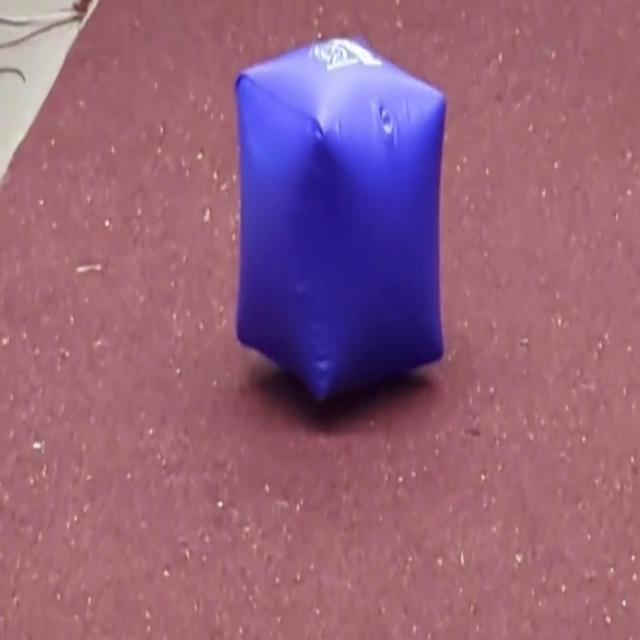frc_cube: (234, 31, 448, 413)
